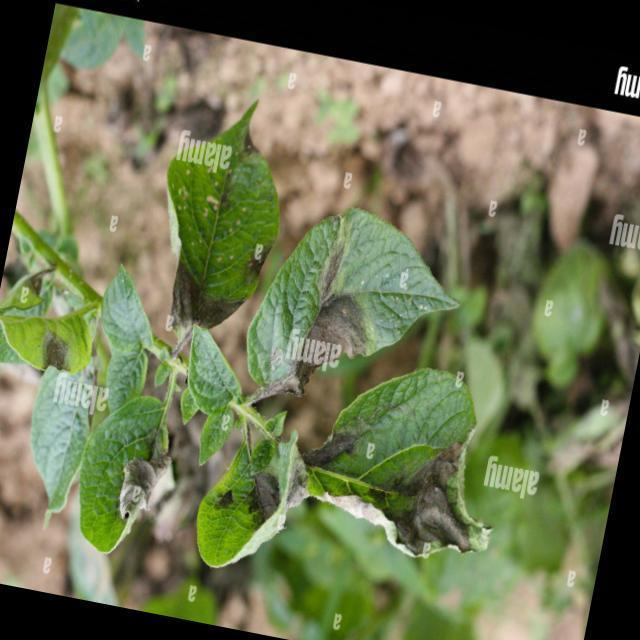Healthy Leaf: (88, 258, 166, 358), (171, 326, 249, 415)
